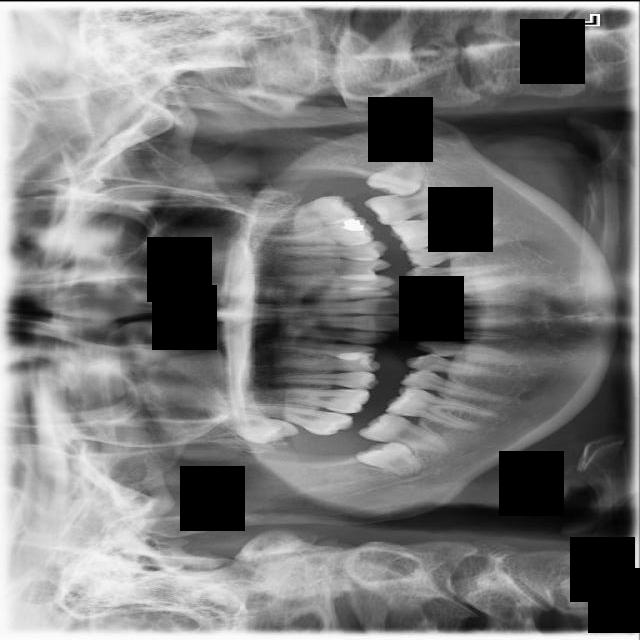3M ESPE Implant: (200, 398, 299, 452)
52: (323, 214, 378, 247)
73: (548, 46, 557, 52)
BioHorizons Implant: (239, 192, 359, 233)
Biomet 3i Implant: (363, 149, 433, 211)
Blue Sky Bio Implant: (363, 184, 469, 229)
Caries: (237, 396, 356, 440)
Implant: (357, 407, 456, 455)
Keystone Dental Implant: (353, 428, 429, 484)
